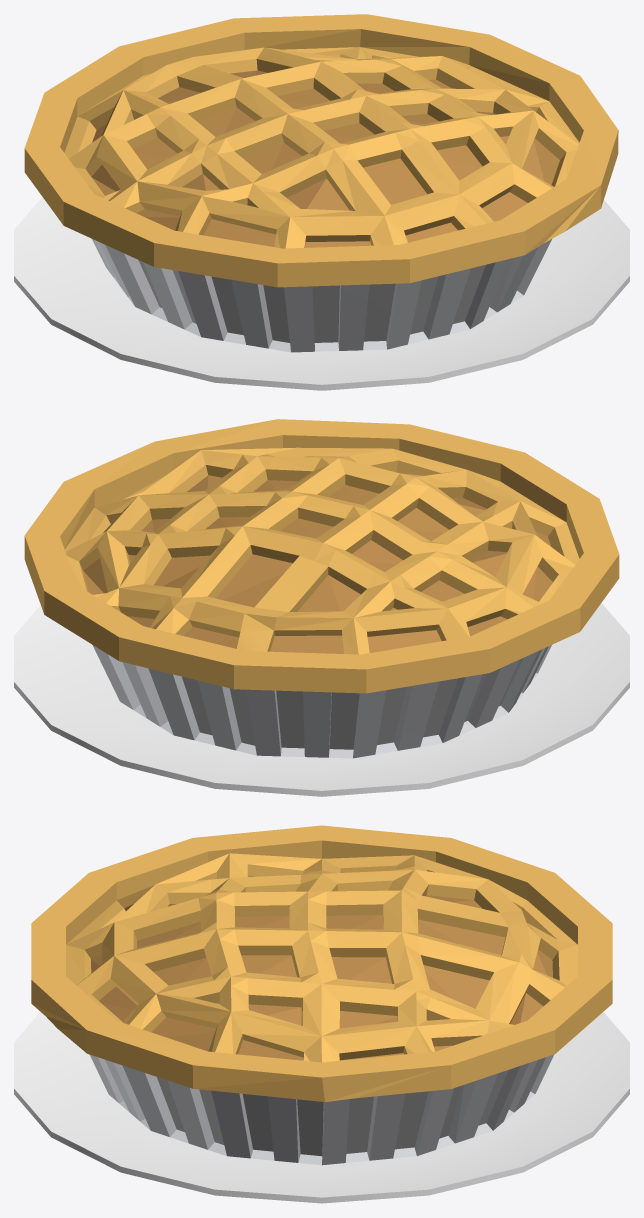
The model's file is tarte3.FBX.
3 views of the same model, one above another, from view 1: azimuth 30°, elevation 25°; view 2: azimuth 150°, elevation 25°; view 3: azimuth 270°, elevation 25° (orthographic).
Visible parts, largest first — view 1: Cylinder001 (×2); view 2: Cylinder001 (×2); view 3: Cylinder001 (×2).
Part boxes in pixels (x1,y1,x2,y2): Cylinder001 (×2): (14, 14, 629, 390); Cylinder001 (×2): (14, 419, 629, 796); Cylinder001 (×2): (14, 825, 629, 1203).
Size of the model in its own units: 107 by 34.47 by 106.
